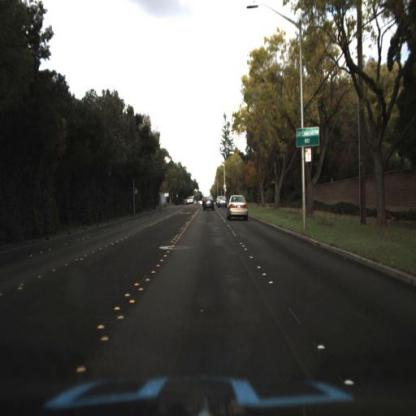car: (227, 191, 250, 223), (203, 195, 216, 216), (217, 192, 231, 211), (219, 197, 228, 209)
